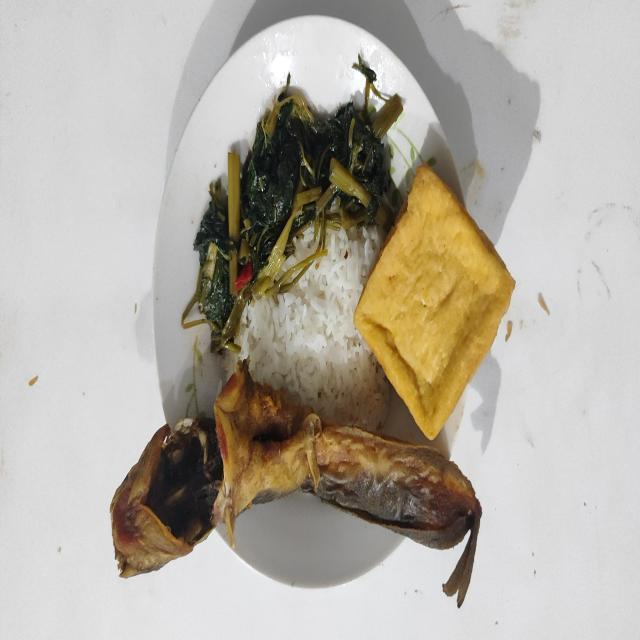nasi_putih: (237, 226, 390, 431)
tahu_goreng: (354, 165, 515, 440)
tumis_kangkung: (182, 58, 404, 353)
